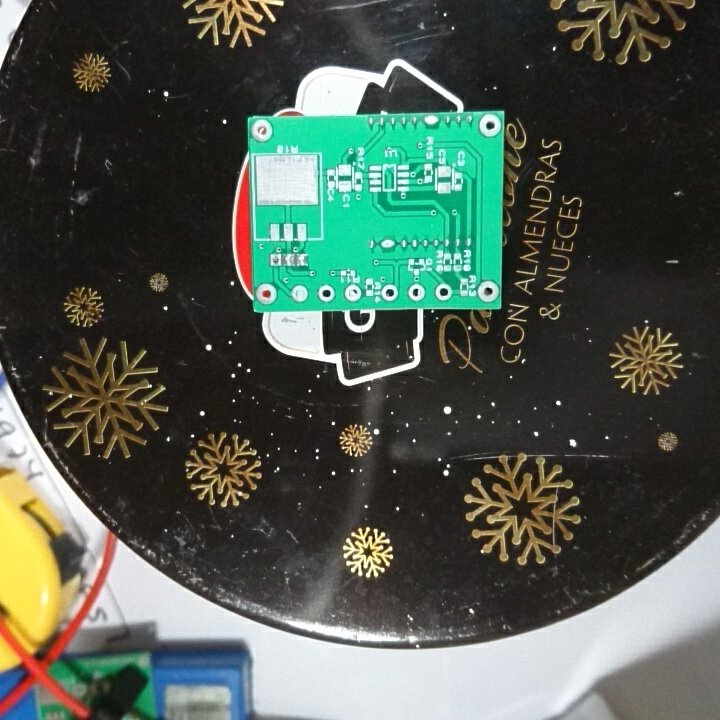F: (250, 117, 275, 146), (476, 277, 499, 306), (476, 114, 501, 140), (316, 284, 338, 306), (289, 283, 311, 305), (432, 281, 452, 305), (404, 283, 428, 303), (254, 283, 279, 301), (380, 281, 399, 303), (343, 281, 361, 303), (267, 250, 283, 271)
P: (376, 235, 399, 255), (421, 112, 441, 129)
